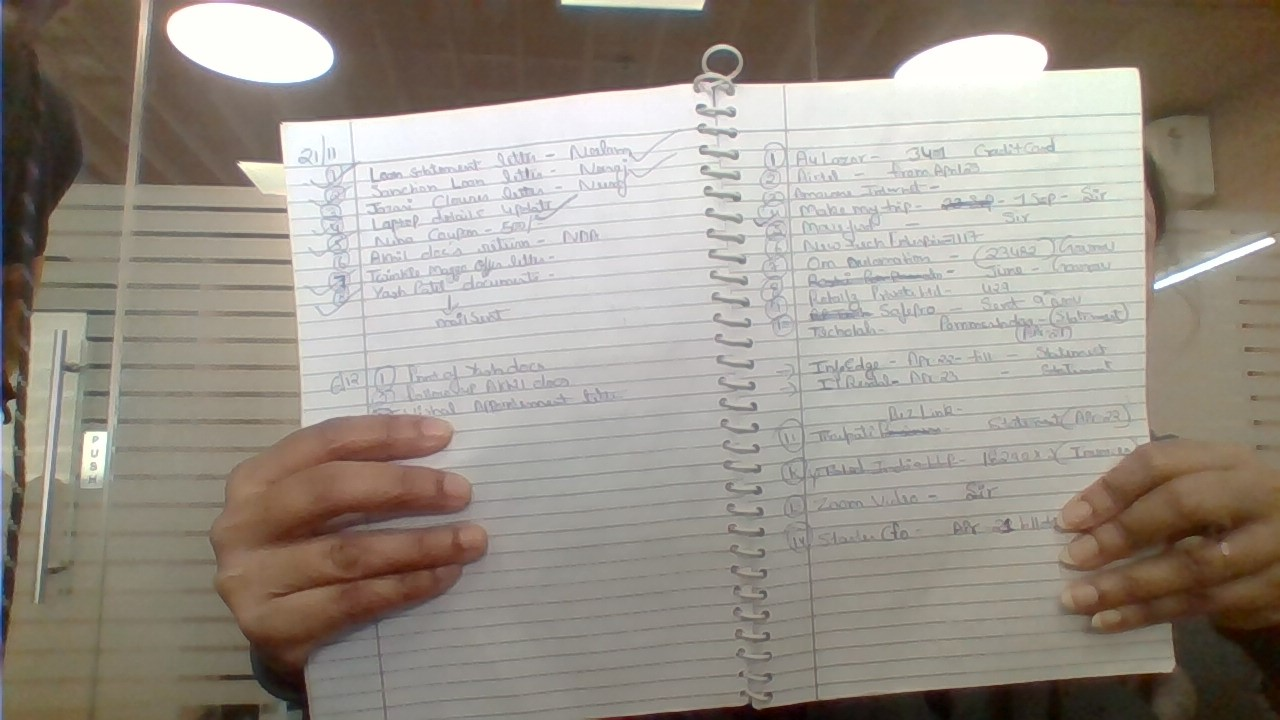notebook: (274, 82, 756, 720), (719, 67, 1172, 711)
